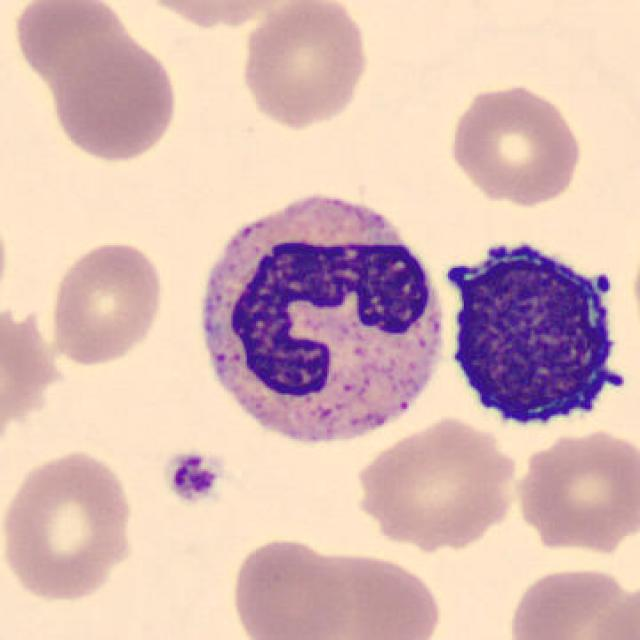Lymphocyte: (434, 224, 636, 442), (434, 225, 636, 442)
Neutrophil: (185, 178, 453, 464)
Platelets: (160, 448, 226, 508)
RBC: (350, 413, 523, 550), (0, 444, 140, 606), (45, 28, 183, 166), (444, 79, 586, 208), (236, 0, 374, 132), (270, 546, 448, 640), (510, 425, 638, 555), (45, 236, 167, 368), (226, 534, 354, 640), (7, 2, 144, 88), (503, 562, 637, 640), (0, 298, 65, 436), (132, 0, 302, 32), (576, 575, 640, 640), (0, 204, 12, 320)
